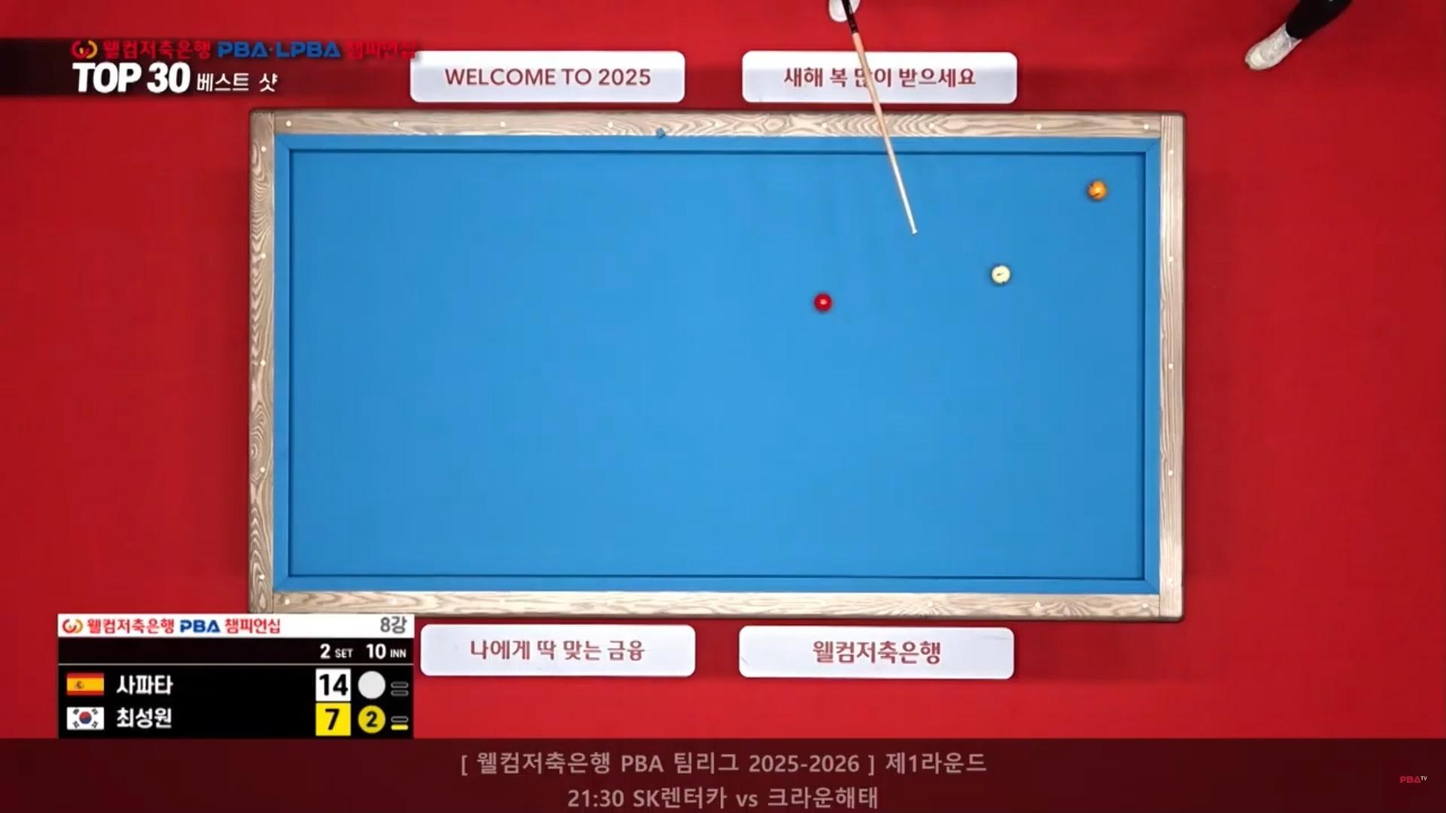Red: (811, 296, 834, 314)
White: (992, 265, 1016, 286)
Yellow: (1089, 181, 1112, 201)
